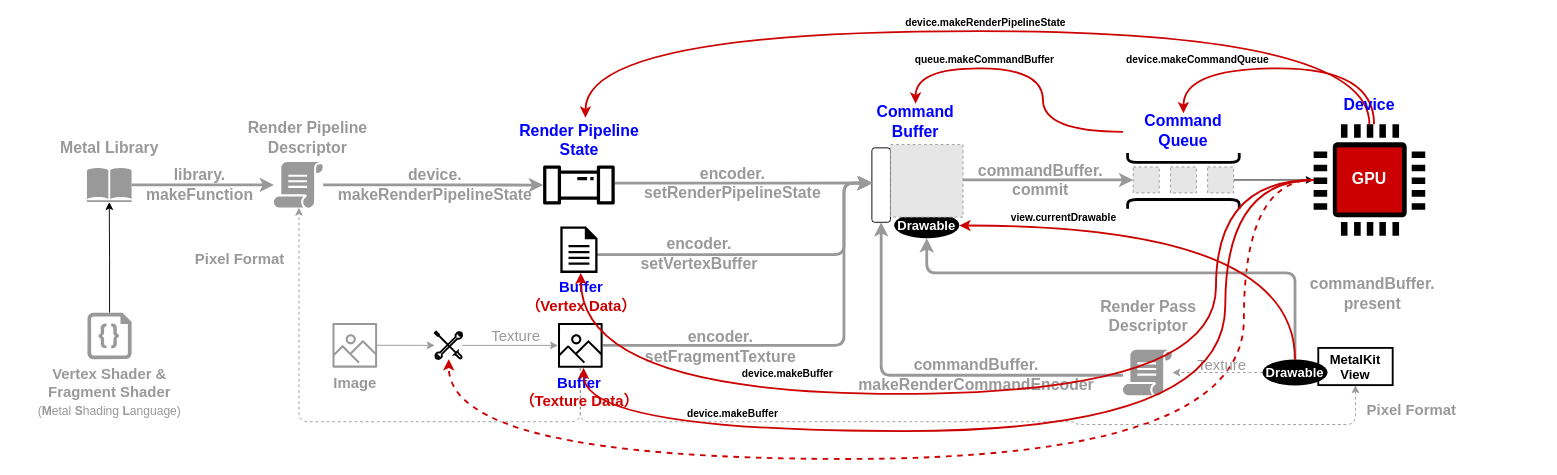
Image size: 1557x475. Some labels were removed from this diagram. Grey dashed boxes stand in for pictures. The shapes that lost their labels are listed below. From the top down, each one's box as (x1, y1, x2, y2) in pixels, then its label:
(871, 147, 890, 222): Encoder
(433, 330, 463, 360): MTKTextureLoader
